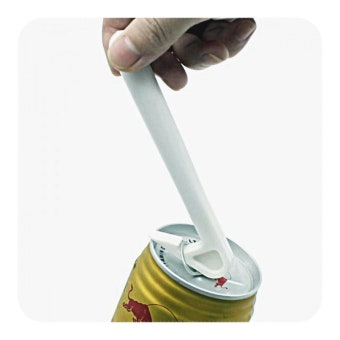paper: (105, 221, 262, 320)
